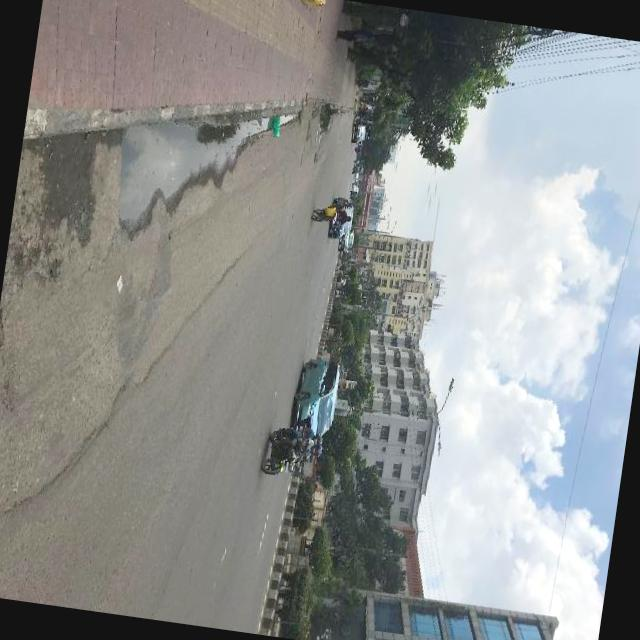car: (288, 358, 342, 442), (327, 199, 356, 244), (350, 125, 370, 146), (338, 230, 354, 254), (351, 186, 358, 193), (352, 173, 358, 180)
motorcycle: (260, 421, 326, 487), (349, 192, 358, 202), (352, 166, 362, 174), (354, 162, 361, 166)
